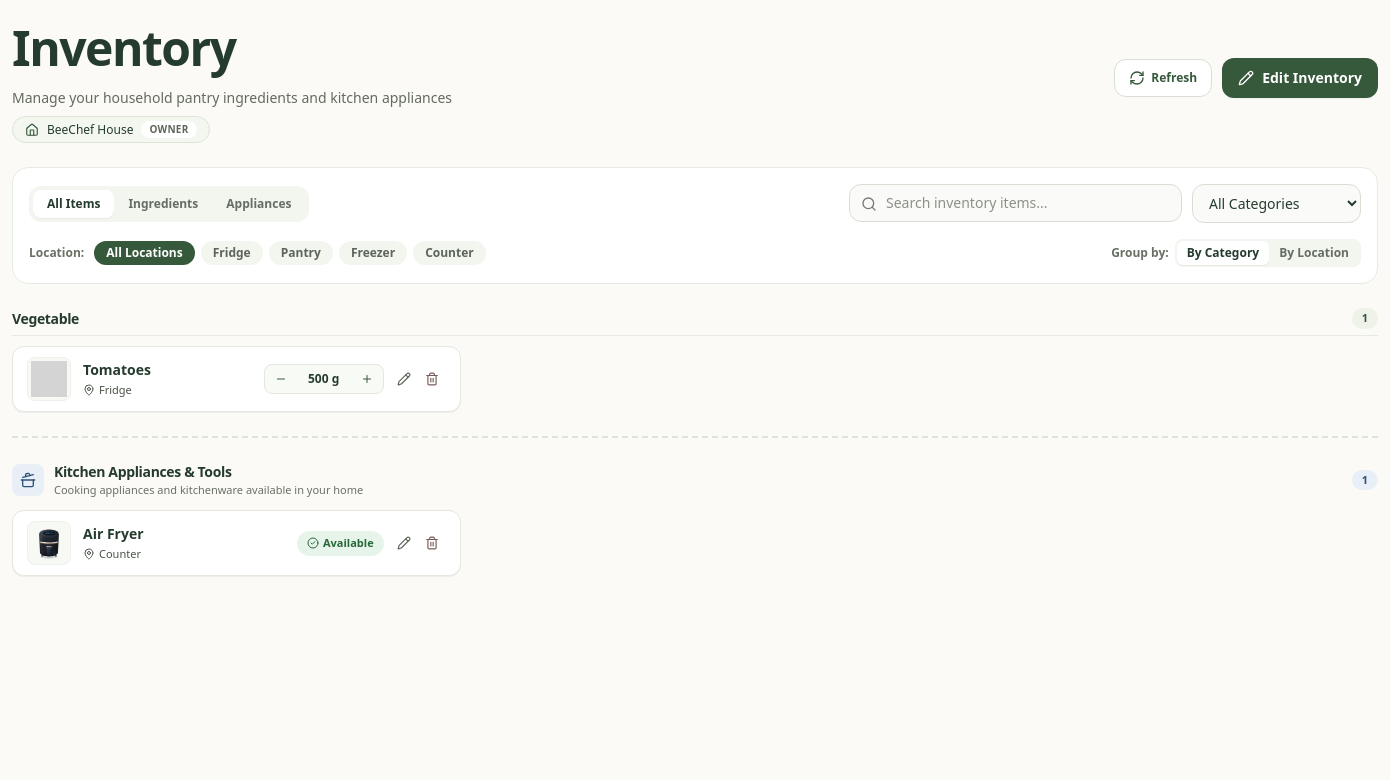
InventoryPage UI and API integration › shows a quiet out-of-stock note only when something has run out
Expected: the heading "Air Fryer" is shown, [83,524,144,543]
Running out of an item makes the note appear
Click the button with aria-label "Toggle Air Fryer availability": (340,543) [297,531,384,556]
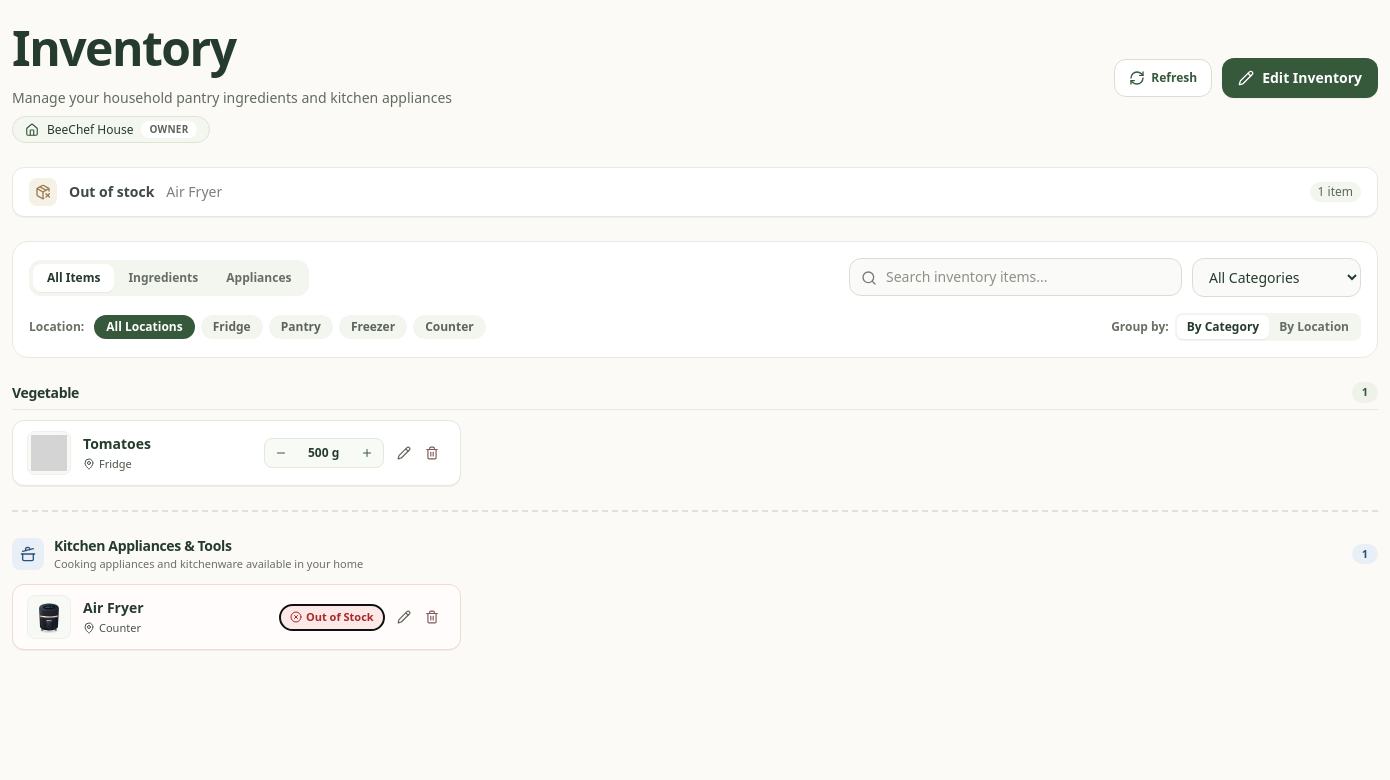
Result: the element with test id "out-of-stock-note" shows "Out of stock" at [69,182,154,201]
Result: the element with test id "out-of-stock-note" shows "Air Fryer" at [166,182,222,201]
Result: the element with test id "out-of-stock-note" shows "1 item" at [12,167,1378,217]
